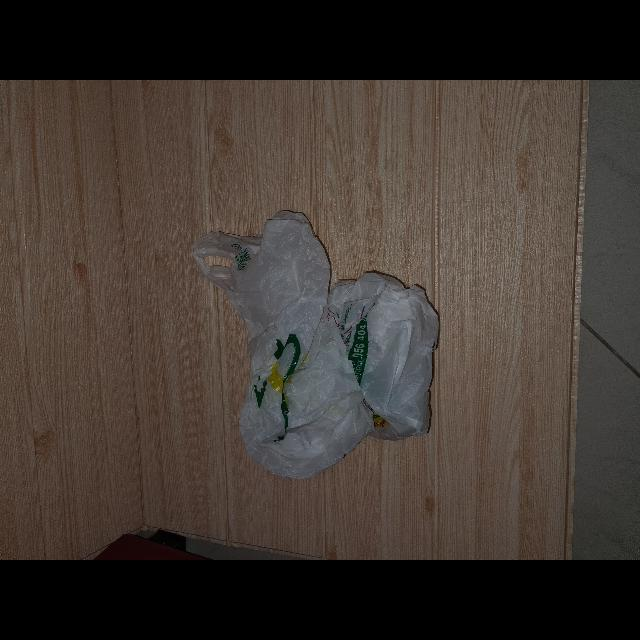sacola plástica: (192, 208, 440, 482)
